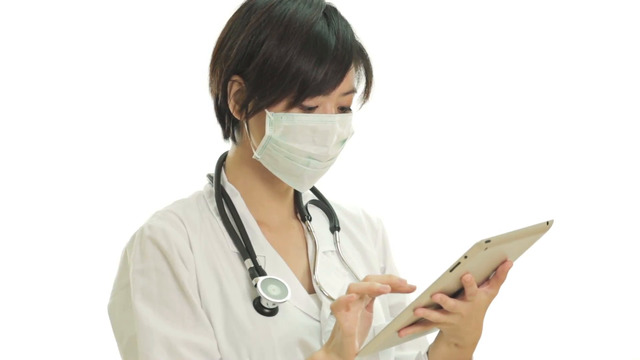mask: (267, 115, 357, 187)
